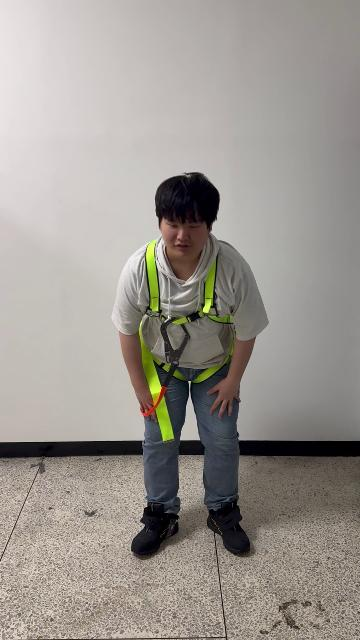helmet_not_worn: (154, 169, 222, 241)
shoe_worn: (131, 504, 179, 555), (207, 502, 250, 555)
vest_worn: (134, 243, 233, 437)
